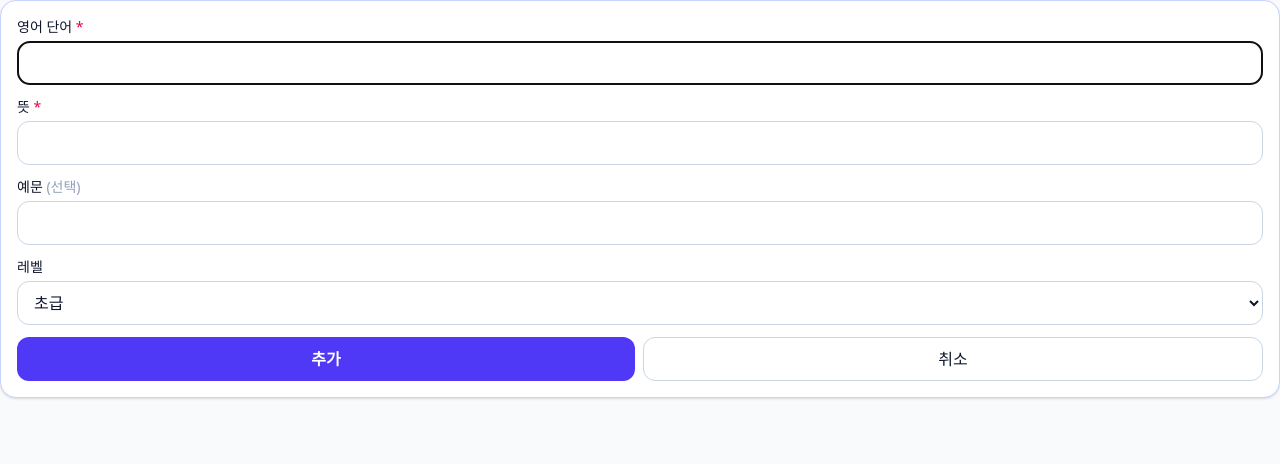
Test: WordForm: 필수값 검증 › 영어 단어와 뜻이 비어 있으면 저장하지 않고 오류를 보여 준다
Step 1. Click the button "추가" → (326, 359), box [17,337,635,381]
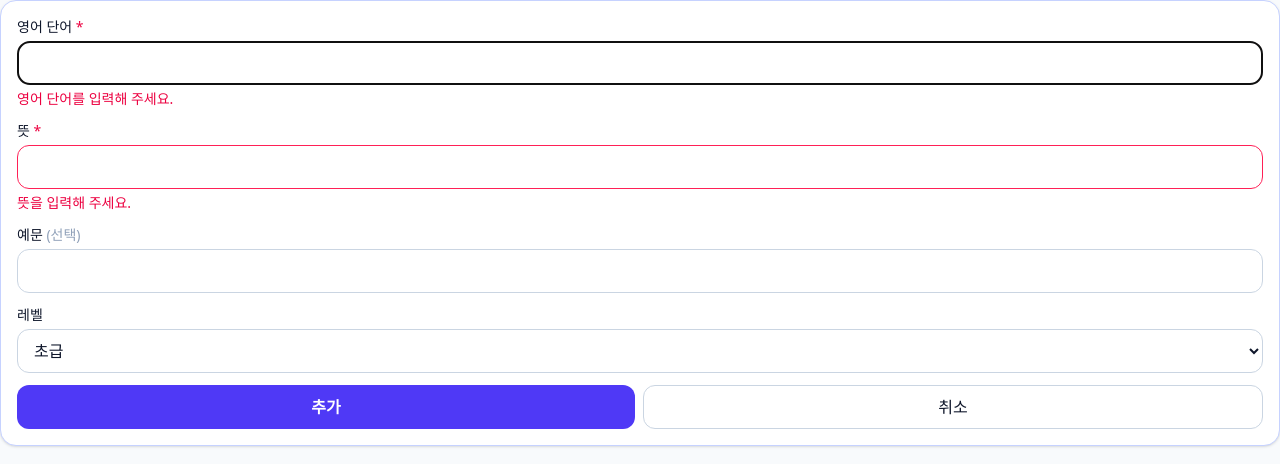
Expected: the text "영어 단어를 입력해 주세요." is shown, [17,89,173,108]
Expected: the text "뜻을 입력해 주세요." is shown, [17,193,131,212]
